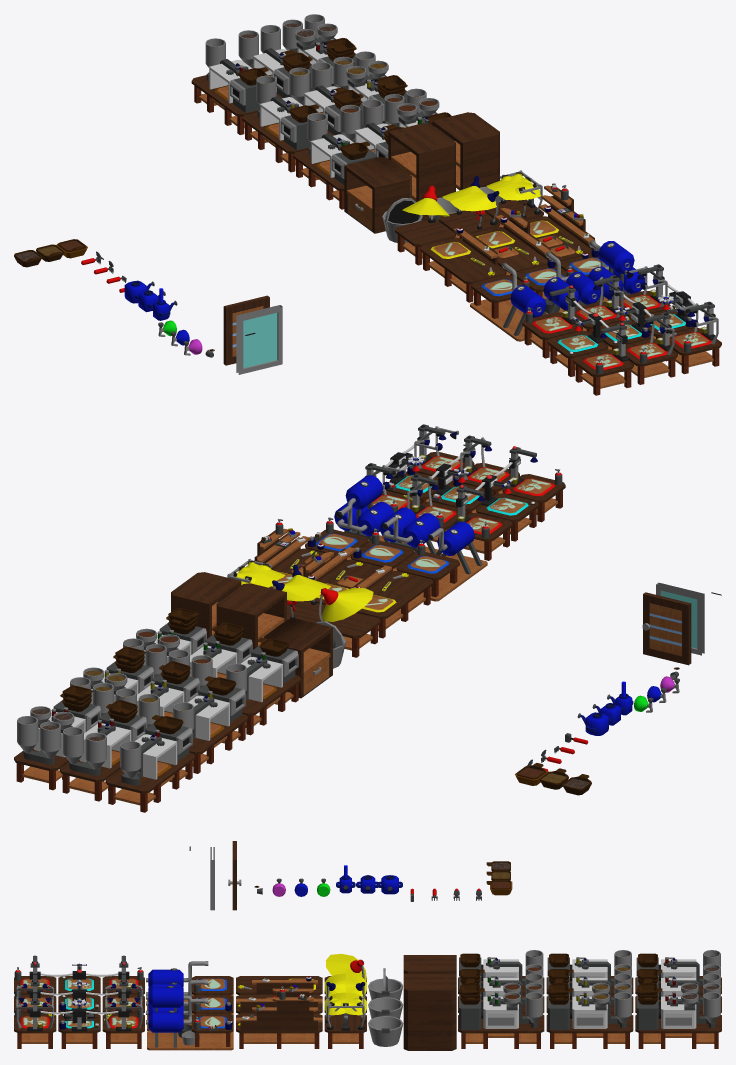
Rendered from TablesAndDinamicObjects.fbx.
The picture shows the model from 3 angles, top to bottom: view 1: azimuth 30°, elevation 25°; view 2: azimuth 150°, elevation 25°; view 3: azimuth 270°, elevation 25°; orthographic projection. The views are drawn at different scales.
Visible parts, largest first — view 1: CrossingTable1, CrossingTable2, CrossingTable3, PotsRack2, PotsRack1, ExoticSoilPreparationTable1, DecorativeSoilPreparationTable1, WildSoilPreparationTable1, PotsRack3, WeedingTable1, WateringTable1, WeedingTable3 (+17 smaller); view 2: CrossingTable1, ExoticSoilPreparationTable1, ExoticSoilPreparationTable2, ExoticSoilPreparationTable3, WildSoilPreparationTable1, DecorativeSoilPreparationTable1, CrossingTable2, WateringTable1, CrossingTable3, WateringTable3, PotsRack1, WateringTable2 (+16 smaller); view 3: PotsRack3, CrossingTable3, WildSoilPreparationTable3, ExoticSoilPreparationTable3, DecorativeSoilPreparationTable3, WateringTable3, WeedingTable3, CrossingTable2, CrossingTable1, PotsRack2, WildSoilPreparationTable1, DecorativeSoilPreparationTable1 (+15 smaller).
Part boxes in pixels (left/top/right/bottom): CrossingTable1: left=522, top=286, right=633, bottom=395; CrossingTable2: left=567, top=275, right=677, bottom=384; CrossingTable3: left=611, top=264, right=721, bottom=374; PotsRack2: left=388, top=123, right=463, bottom=220; PotsRack1: left=344, top=157, right=423, bottom=242; ExoticSoilPreparationTable1: left=191, top=38, right=268, bottom=134; DecorativeSoilPreparationTable1: left=242, top=75, right=319, bottom=172; WildSoilPreparationTable1: left=293, top=112, right=376, bottom=209; PotsRack3: left=432, top=112, right=506, bottom=202; WeedingTable1: left=420, top=227, right=506, bottom=302; WateringTable1: left=470, top=262, right=546, bottom=341; WeedingTable3: left=528, top=183, right=595, bottom=264; CrossingTable1: left=450, top=447, right=565, bottom=560; ExoticSoilPreparationTable1: left=105, top=715, right=195, bottom=812; ExoticSoilPreparationTable2: left=59, top=700, right=146, bottom=801; ExoticSoilPreparationTable3: left=14, top=685, right=100, bottom=790; WildSoilPreparationTable1: left=226, top=637, right=301, bottom=735; DecorativeSoilPreparationTable1: left=173, top=676, right=248, bottom=773; CrossingTable2: left=407, top=435, right=519, bottom=548; WateringTable1: left=396, top=521, right=487, bottom=601; CrossingTable3: left=365, top=424, right=474, bottom=512; WateringTable3: left=305, top=475, right=393, bottom=559; PotsRack1: left=264, top=618, right=346, bottom=698; WateringTable2: left=350, top=507, right=441, bottom=572; PotsRack3: left=368, top=973, right=456, bottom=1050; CrossingTable3: left=14, top=993, right=144, bottom=1048; WildSoilPreparationTable3: left=458, top=980, right=544, bottom=1048; ExoticSoilPreparationTable3: left=635, top=980, right=721, bottom=1048; DecorativeSoilPreparationTable3: left=546, top=980, right=633, bottom=1048; WateringTable3: left=146, top=986, right=233, bottom=1050; WeedingTable3: left=236, top=986, right=322, bottom=1048; CrossingTable2: left=14, top=974, right=144, bottom=1013; CrossingTable1: left=14, top=955, right=144, bottom=994; PotsRack2: left=368, top=955, right=456, bottom=1018; WildSoilPreparationTable1: left=458, top=950, right=544, bottom=994; DecorativeSoilPreparationTable1: left=546, top=950, right=633, bottom=994.
Size of the model in its own units: 1945 by 333 by 3190.
